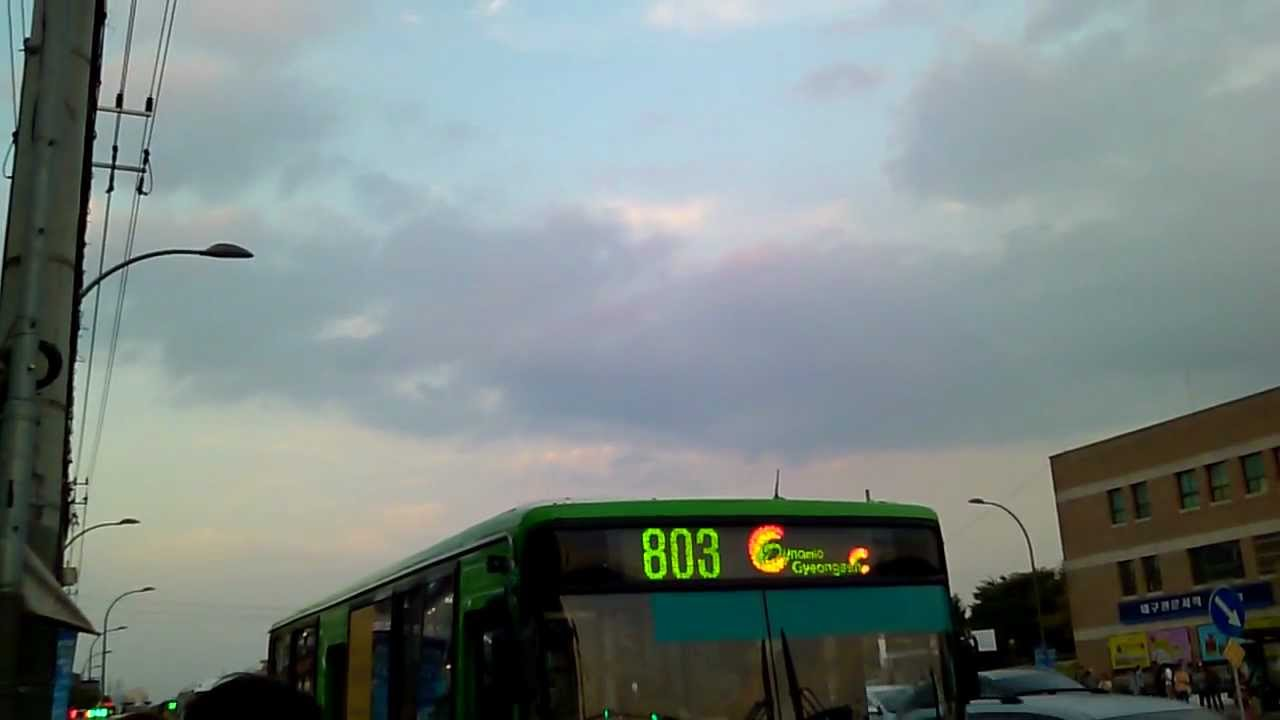bnum: (637, 524, 727, 581)
